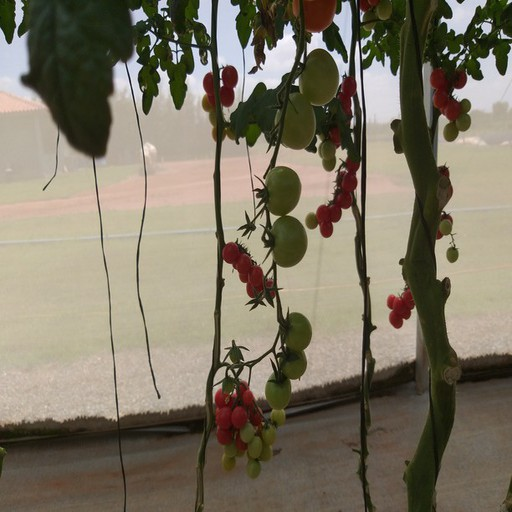green tomato bunch: (256, 48, 340, 410), (352, 1, 393, 28)
mixed tomato bunch: (211, 373, 281, 475), (431, 66, 474, 142), (431, 213, 460, 263)
red tomato bunch: (313, 152, 359, 237), (220, 241, 277, 303), (318, 76, 359, 147), (202, 66, 238, 110), (387, 287, 419, 328)
